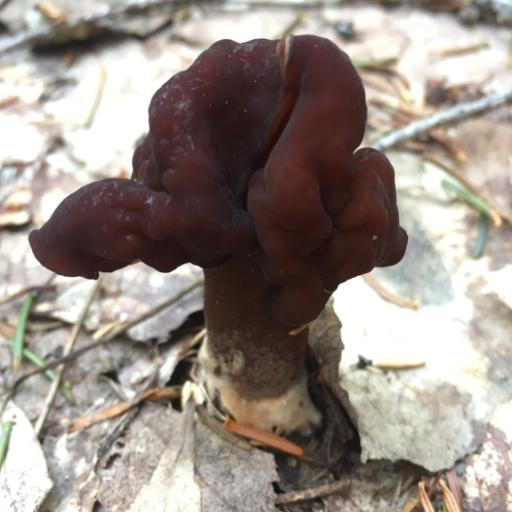mushroom: (32, 0, 495, 440)
